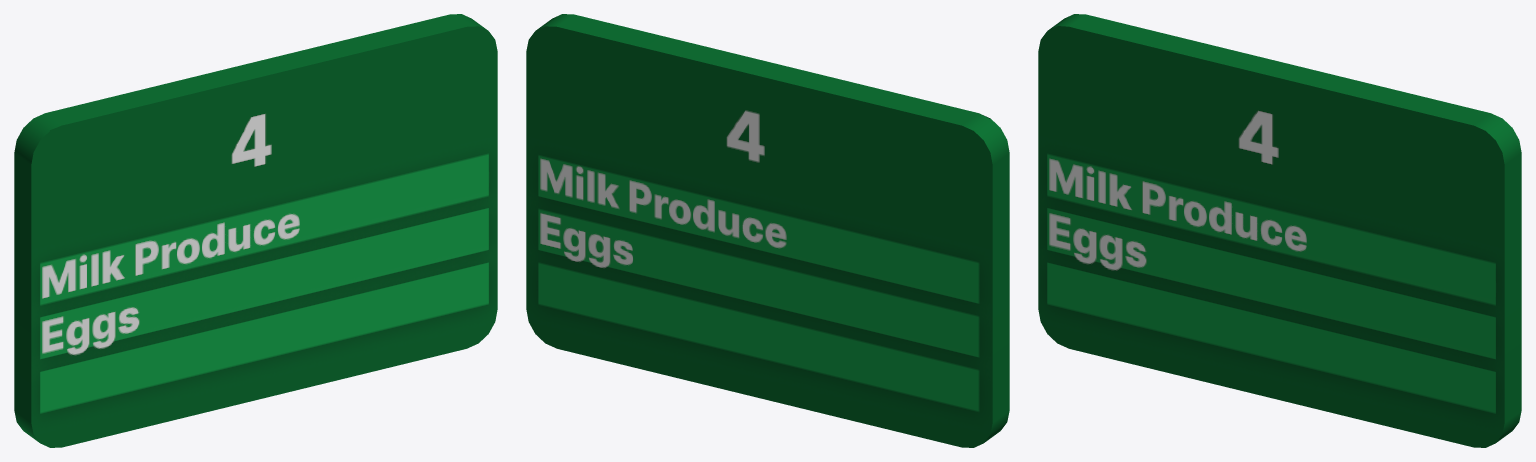
File: aisle4sign.fbx
The picture shows the model from 3 angles, left to right: view 1: azimuth 30°, elevation 25°; view 2: azimuth 150°, elevation 25°; view 3: azimuth 330°, elevation 25°; orthographic projection.
Visible parts, largest first — view 1: pCube1; view 2: pCube1; view 3: pCube1.
Part boxes in pixels (<box>): pCube1: <box>14,14,497,447</box>; pCube1: <box>526,14,1009,447</box>; pCube1: <box>1038,14,1521,447</box>.
Bounding box in the file's own units: 15.9 × 10.49 × 1.
